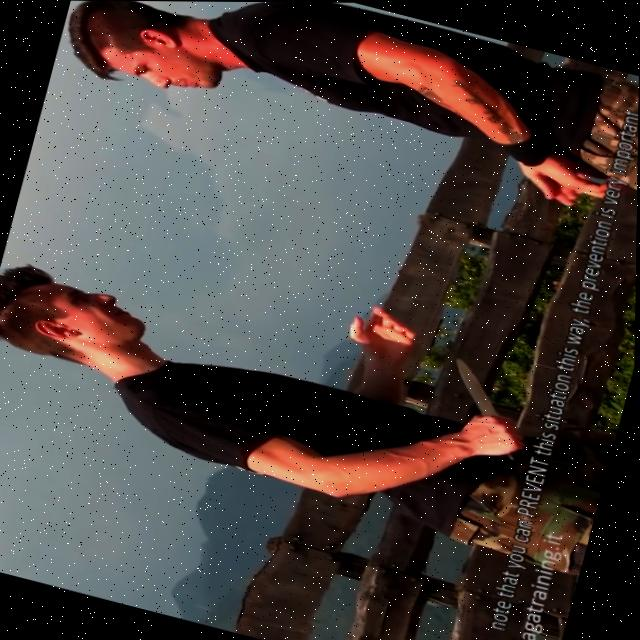knife: (443, 354, 511, 415)
